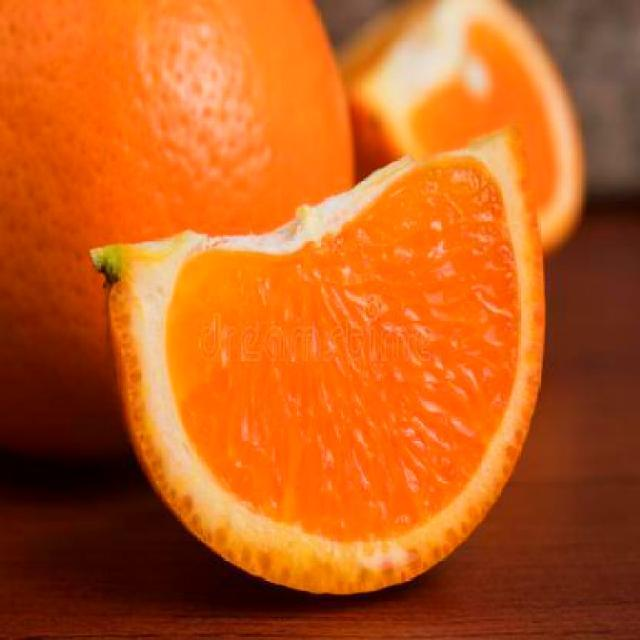Jeruk Sudah Matang: (0, 0, 360, 482)
